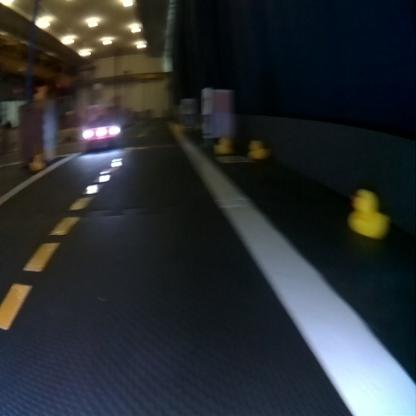Duckie: (347, 189, 388, 237), (247, 140, 267, 158), (28, 153, 44, 170), (213, 137, 227, 153)
Duckiebot: (81, 116, 120, 148)
